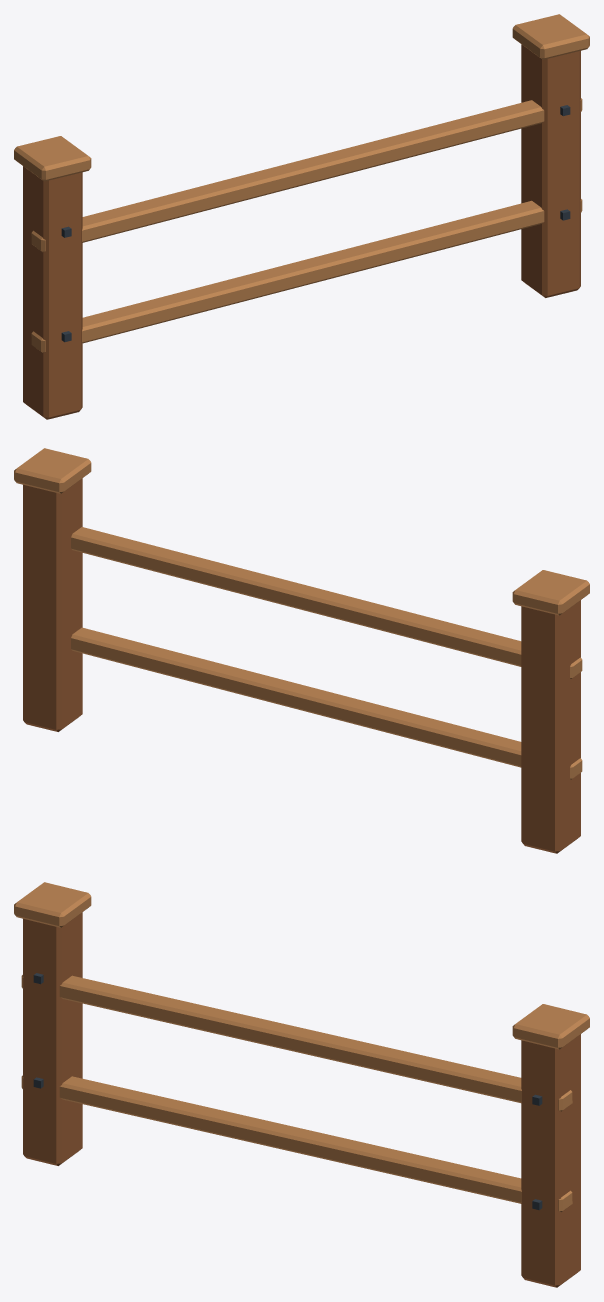
File: Fence.glb
The picture shows the model from 3 angles, top to bottom: view 1: azimuth 30°, elevation 25°; view 2: azimuth 150°, elevation 25°; view 3: azimuth 330°, elevation 25°; orthographic projection.
Parts seen in each view (by area): view 1: Fence post, Fence post.001, Uneven fence rail, Uneven fence rail.001, Post cap.001, Post cap; view 2: Fence post, Fence post.001, Uneven fence rail, Uneven fence rail.001, Post cap.001, Post cap; view 3: Fence post.001, Fence post, Uneven fence rail, Uneven fence rail.001, Post cap, Post cap.001.
Part boxes in pixels (box(x1,y1,x2,y2)): Fence post: box(23, 166, 82, 419); Fence post.001: box(521, 44, 580, 297); Uneven fence rail: box(31, 199, 582, 352); Uneven fence rail.001: box(31, 98, 582, 252); Post cap.001: box(512, 14, 589, 59); Post cap: box(14, 136, 91, 181); Fence post: box(521, 600, 580, 853); Fence post.001: box(23, 478, 82, 731); Uneven fence rail: box(71, 627, 582, 779); Uneven fence rail.001: box(71, 527, 582, 678); Post cap.001: box(14, 448, 91, 493); Post cap: box(512, 570, 589, 615); Fence post.001: box(521, 1034, 580, 1287); Fence post: box(23, 912, 82, 1165); Uneven fence rail: box(21, 1075, 572, 1212); Uneven fence rail.001: box(21, 975, 572, 1111); Post cap: box(14, 882, 91, 927); Post cap.001: box(512, 1004, 589, 1049).
Bounding box in the file's own units: 7.7 × 3.45 × 0.75.
